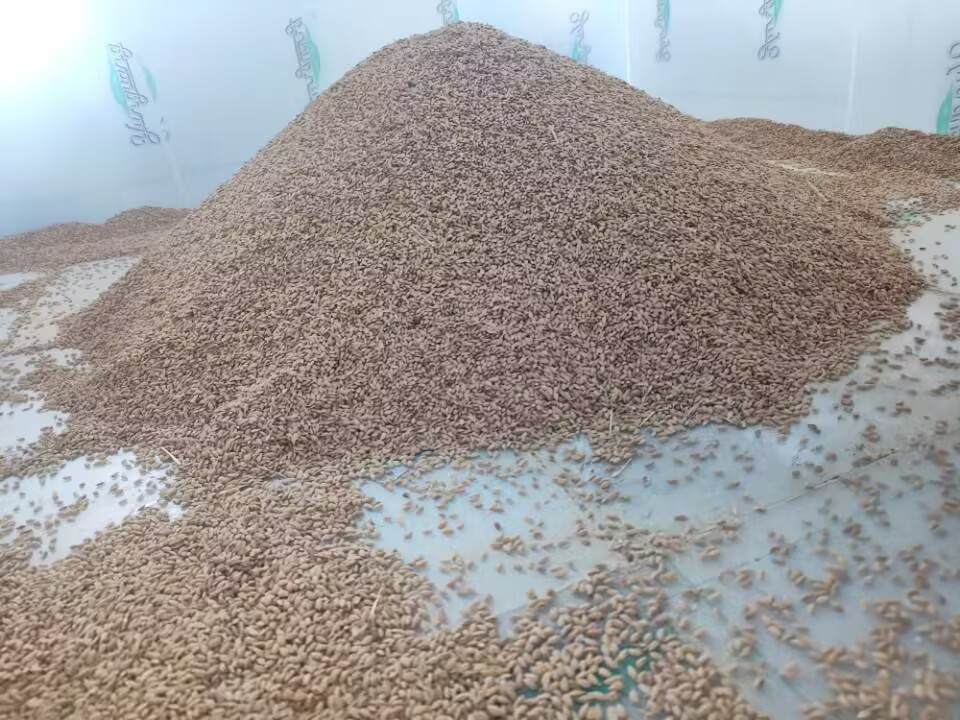Grain: (163, 7, 828, 394)
